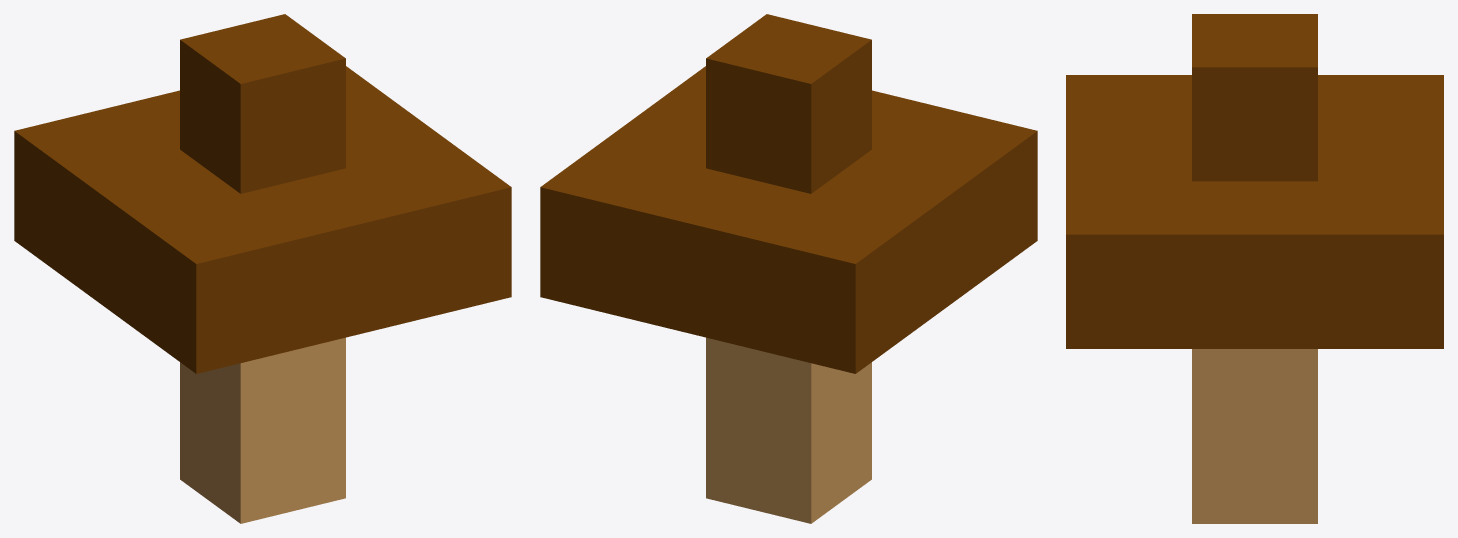
The model's file is mushroom_2.glb.
The picture shows the model from 3 angles, left to right: view 1: azimuth 30°, elevation 25°; view 2: azimuth 150°, elevation 25°; view 3: azimuth 270°, elevation 25°; orthographic projection. The views are drawn at different scales.
Parts seen in each view (by area): view 1: pl0; view 2: pl0; view 3: pl0.
Boxes of the visible parts, box(x1,y1,x2,y2) form: pl0: box(14, 14, 511, 523); pl0: box(540, 14, 1037, 523); pl0: box(1066, 14, 1443, 523).
Size of the model in its own units: 3 by 4 by 3.
1 material, 1 textured.
